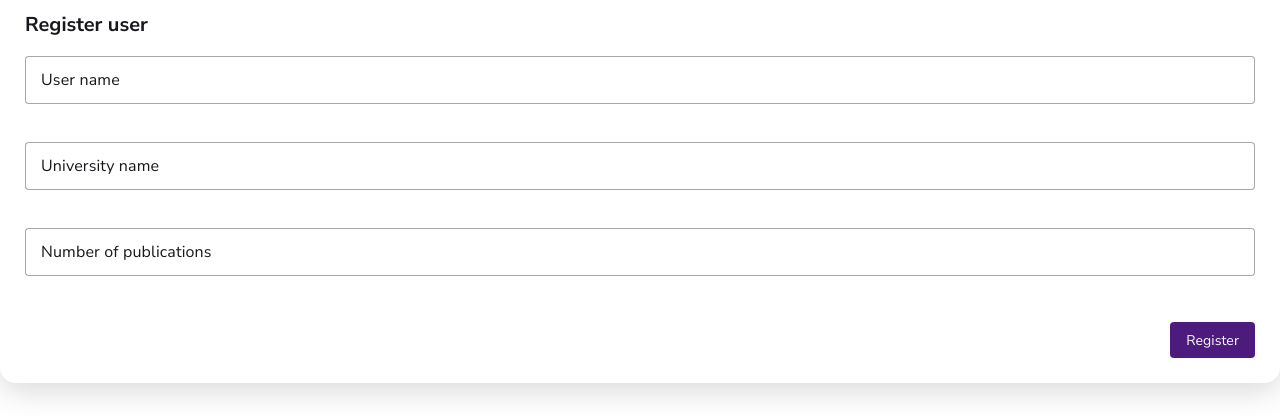
Test case: Given RegisterUserForm › When a field is edited then cleared (touched) › Then it shows that field error without submitting
The width and height of the screenshot is (1280, 416).
Type "Grace" into the field labelled "User name" at {"x": 640, "y": 80}, box x1=25 y1=56 x2=1255 y2=104
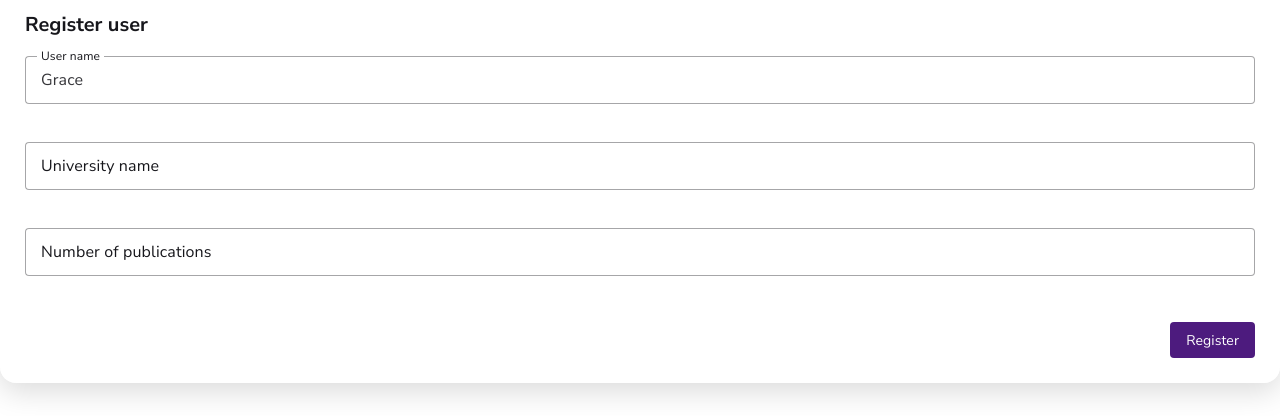
Clear the field labelled "User name" at {"x": 640, "y": 80}, box x1=25 y1=56 x2=1255 y2=104
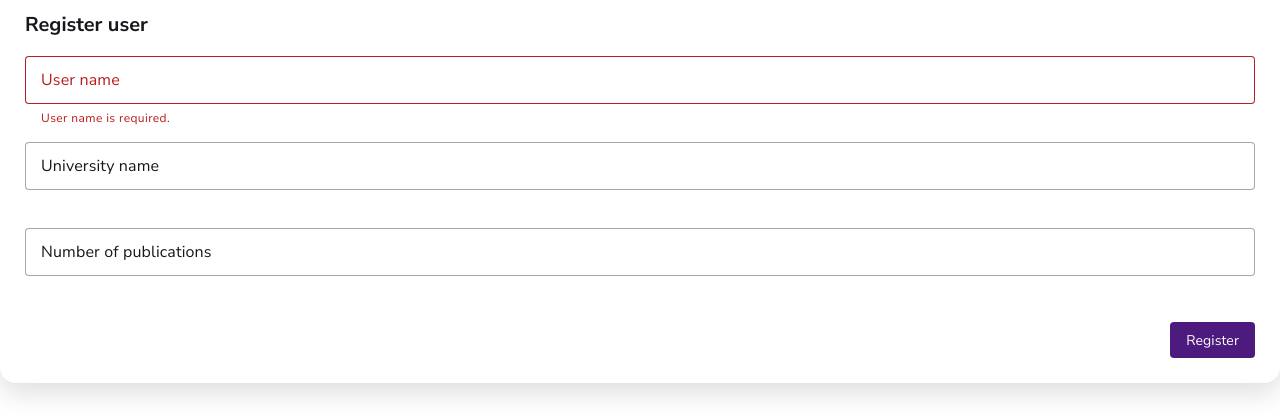
Check: the text "User name is required." is shown, box x1=41 y1=110 x2=170 y2=126
